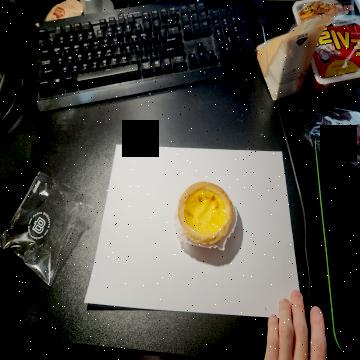EggTart: (178, 180, 234, 245)
